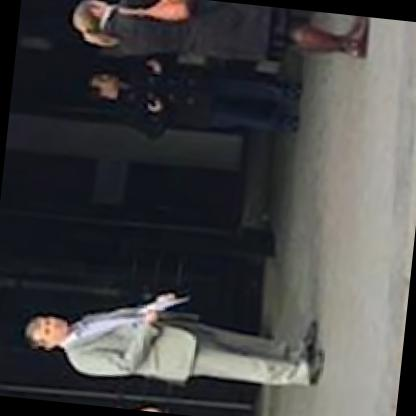Human Body: (14, 274, 334, 405), (64, 0, 377, 76), (80, 52, 310, 146)
